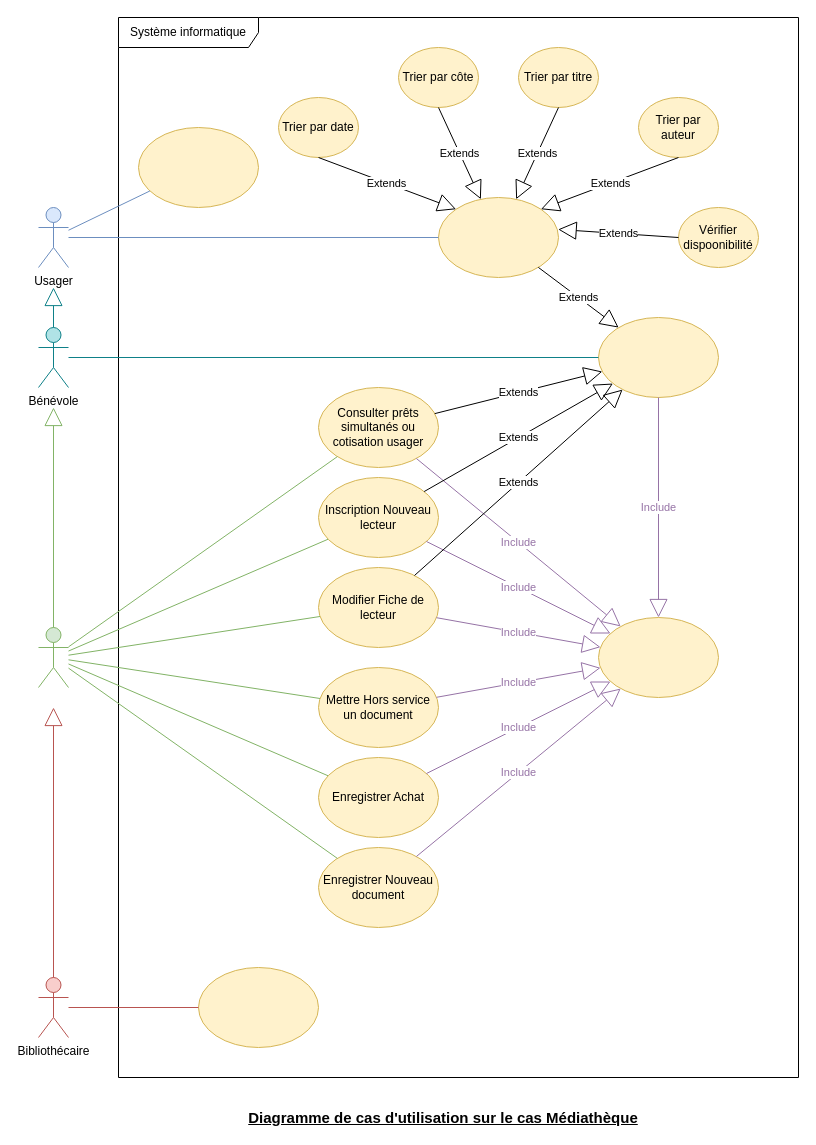
This 816x1145 diagram has some shape labels left out. Each missing label, with the centre of its shape:
Consultation Liste de Documents: the point at 498,237
Employé: the point at 53,657
Enregistrer Emprunt: the point at 658,357
Envoyer une relance: the point at 258,1007
Lire un CD-ROM ou un microfilm: the point at 198,167
S'identifier: the point at 658,657
